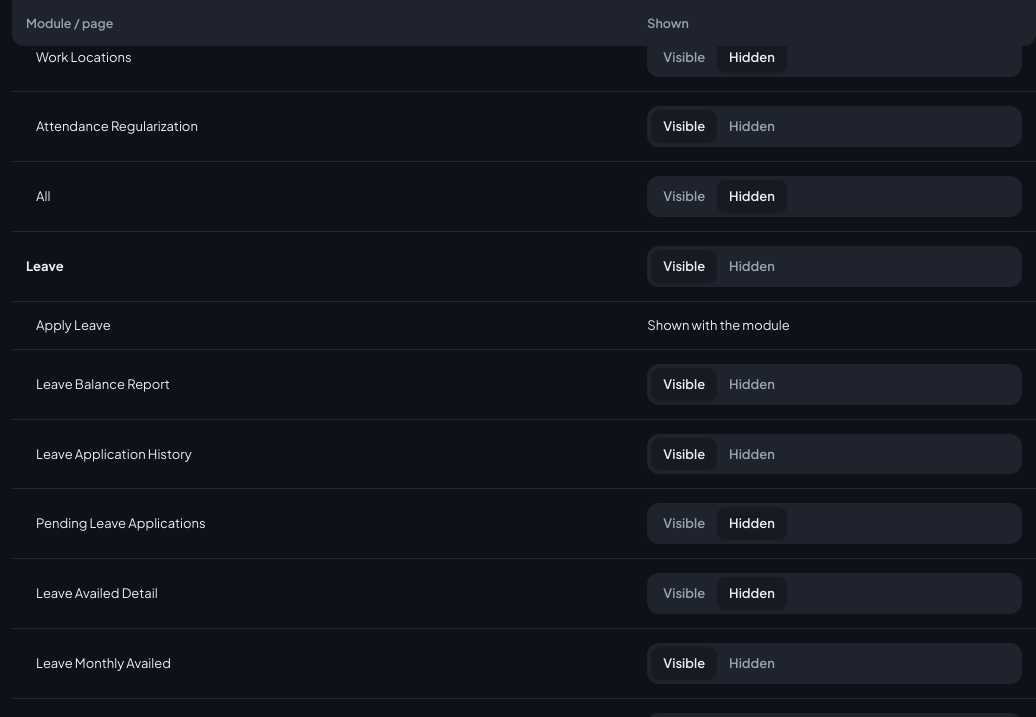
Test: the Security page › says the rules were dropped when the site answers a save and keeps nothing
The width and height of the screenshot is (1036, 717).
(page scrolled)
Click the button "Hidden" in the row of "Leave Balance Report". click: (752, 384)
box: [717,368,787,400]
(page scrolled)
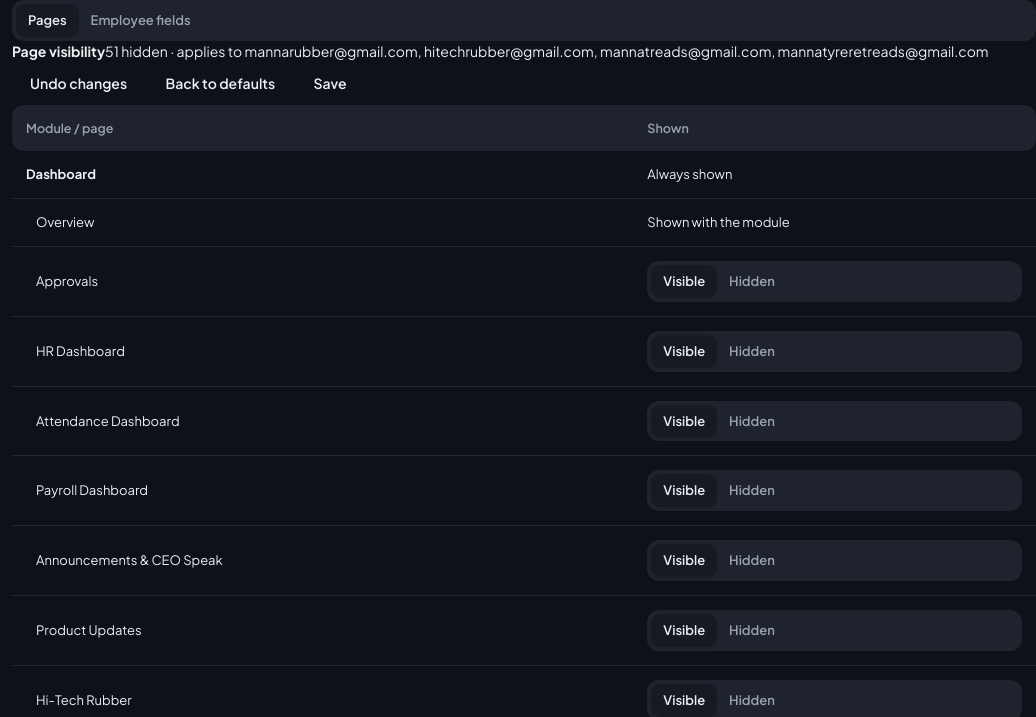
Click the button "Save". click: (330, 83)
box: [296,61,365,105]
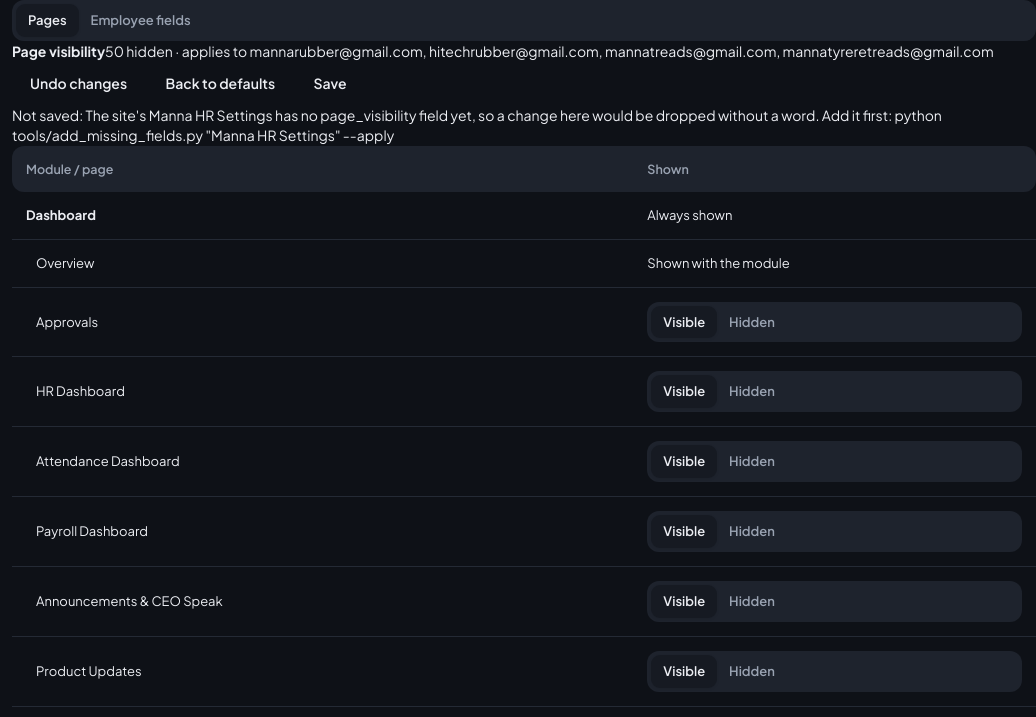
Result: the text "no page_visibility field" is shown at [12,106,942,144]
